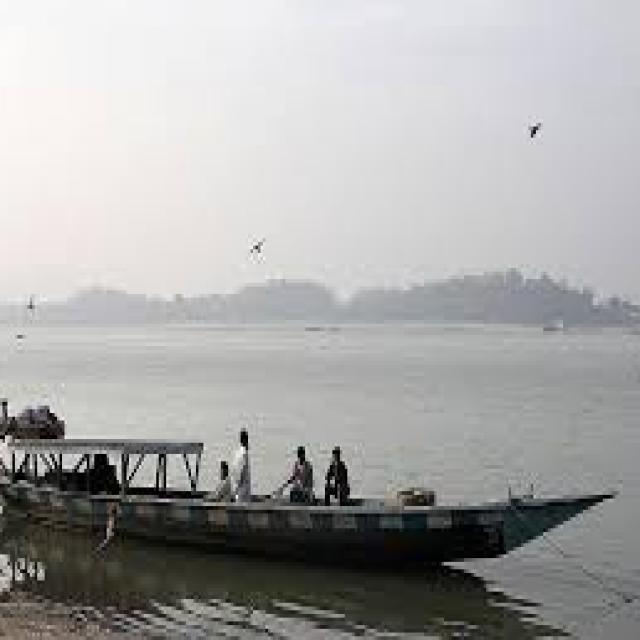fishing boat: (0, 354, 620, 558)
